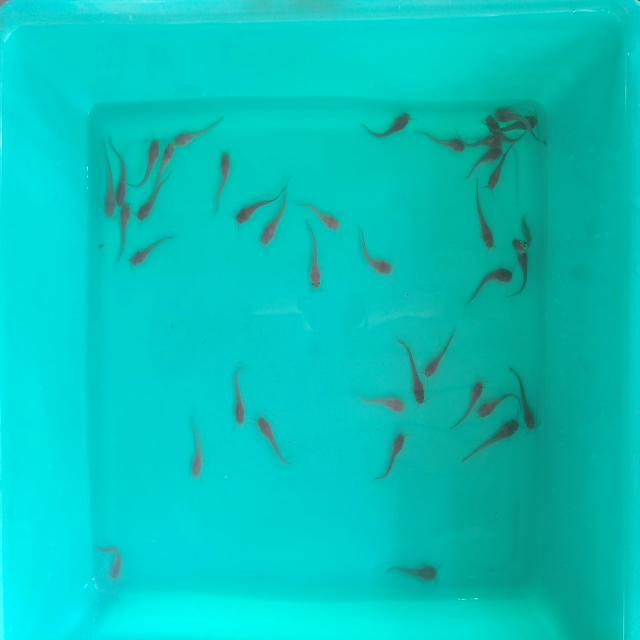lele: (467, 418, 523, 462), (132, 166, 175, 223), (230, 182, 285, 225), (252, 415, 294, 470), (354, 223, 396, 277), (462, 264, 509, 310), (255, 194, 293, 248), (452, 382, 489, 436), (293, 196, 342, 235), (424, 328, 460, 381), (399, 340, 430, 401), (362, 111, 416, 145), (129, 234, 175, 270), (377, 435, 410, 485), (414, 129, 467, 160), (303, 222, 324, 293), (509, 363, 539, 411), (511, 251, 536, 308), (97, 141, 115, 218), (213, 144, 231, 217), (174, 120, 221, 146), (387, 565, 442, 586), (474, 196, 495, 250), (483, 391, 521, 420), (356, 394, 406, 416), (486, 164, 516, 200), (97, 540, 123, 581), (136, 138, 158, 186), (189, 414, 205, 480), (114, 204, 131, 264), (116, 143, 131, 205), (234, 365, 248, 425), (512, 213, 533, 252), (157, 142, 174, 184), (469, 148, 500, 167), (463, 132, 501, 146), (514, 114, 542, 131), (478, 113, 500, 131), (496, 107, 520, 122)
